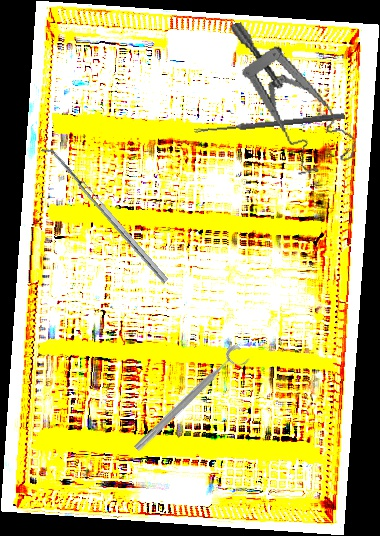Fixation Ring: (130, 342, 253, 461)
Spatula Surgical: (39, 142, 169, 289)
Speculum: (229, 3, 360, 184)
Surgical Spoon: (194, 112, 345, 135)
